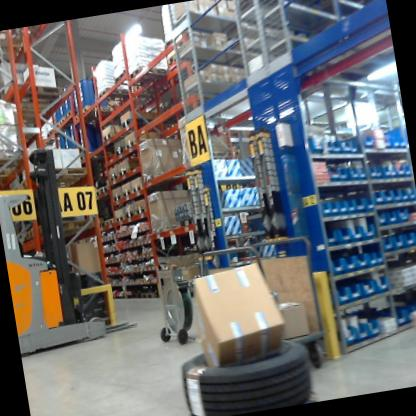forklift: (0, 127, 141, 368)
pallet: (5, 70, 69, 115), (122, 58, 171, 89), (18, 101, 63, 133), (118, 111, 165, 134), (95, 85, 134, 110), (166, 47, 202, 72), (81, 100, 115, 121), (111, 68, 136, 92), (122, 135, 155, 153), (72, 109, 92, 128), (132, 180, 149, 197), (55, 113, 68, 131), (115, 167, 136, 178), (133, 205, 148, 220), (63, 107, 76, 122), (120, 188, 134, 199), (114, 145, 126, 157), (123, 209, 134, 221), (51, 122, 61, 134), (45, 128, 54, 140)
